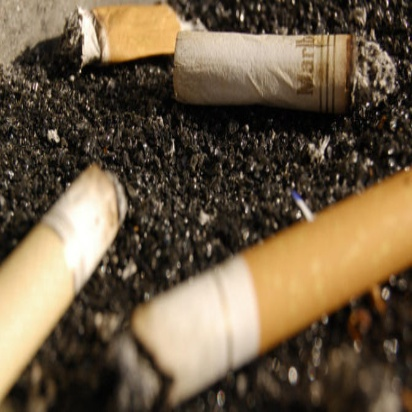cigarette: (112, 160, 408, 412), (3, 160, 124, 412), (169, 27, 399, 116), (56, 1, 199, 64)
